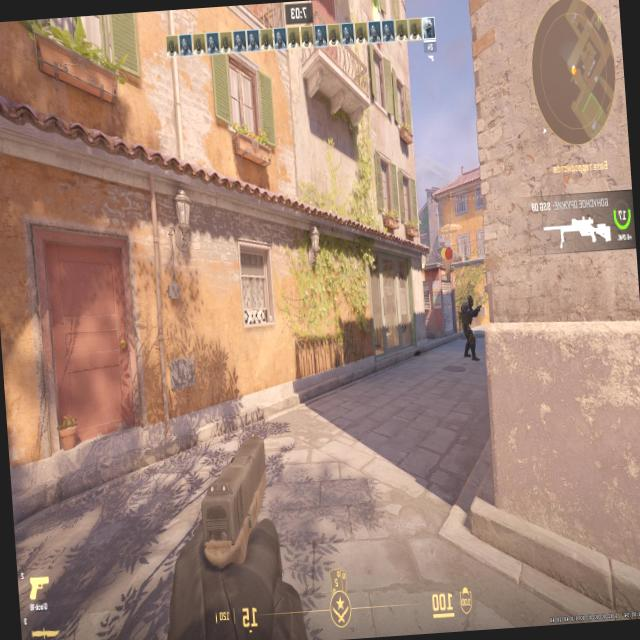CT: (459, 296, 478, 356)
CT_heat: (469, 296, 473, 310)
